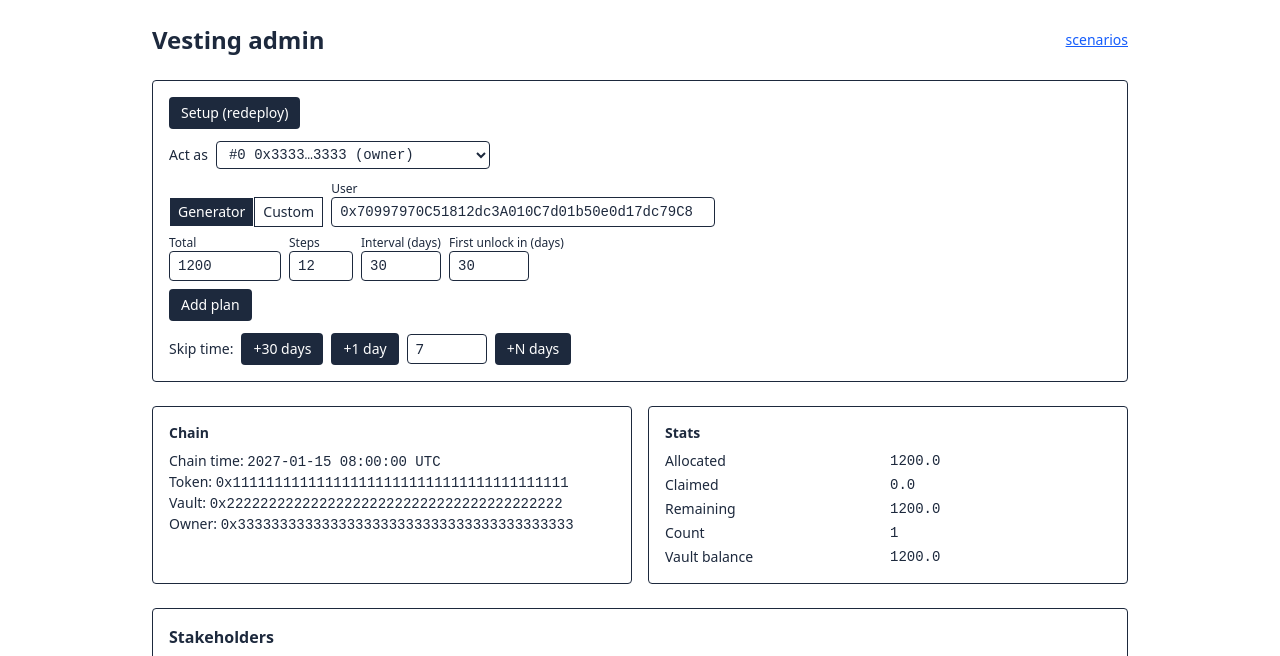
Test: AdminPage › shows a backend error as a toast with the error name
Click the button "Add plan" at (210, 305), box [169,289,252,321]
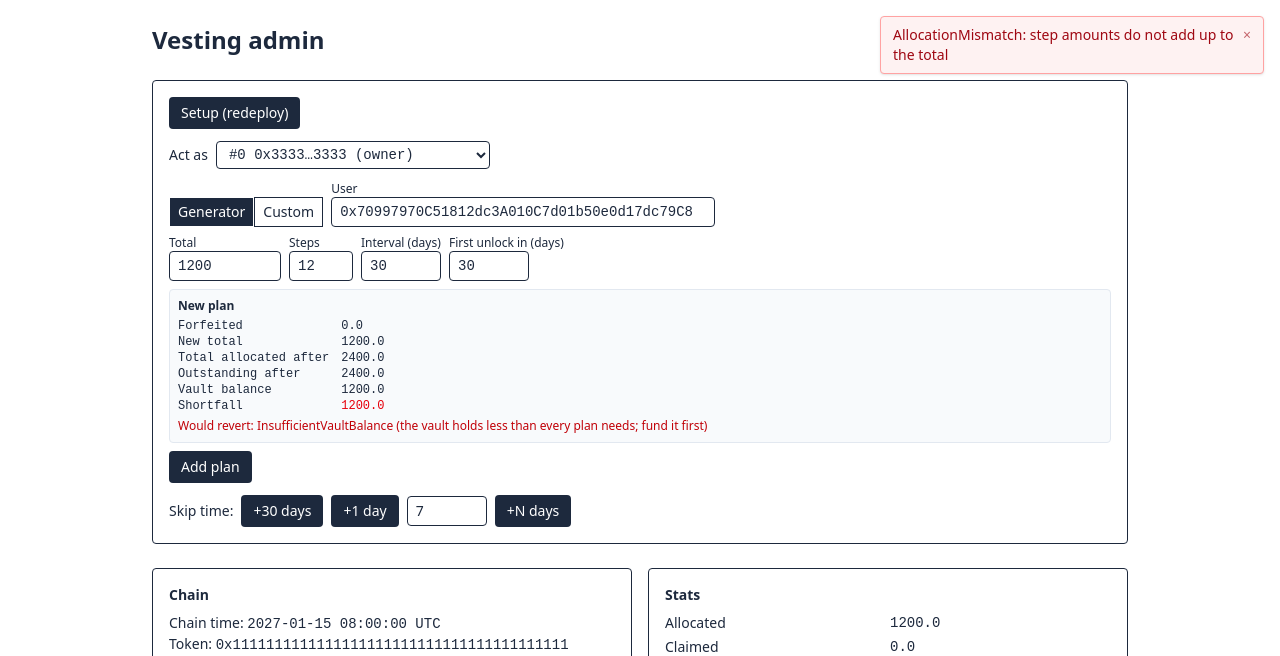
Expected: the text "AllocationMismatch: step amounts do not add up to the total" is shown, [893,25,1235,65]
Expected: the text "Would revert: InsufficientVaultBalance" is shown, [178,417,708,434]
